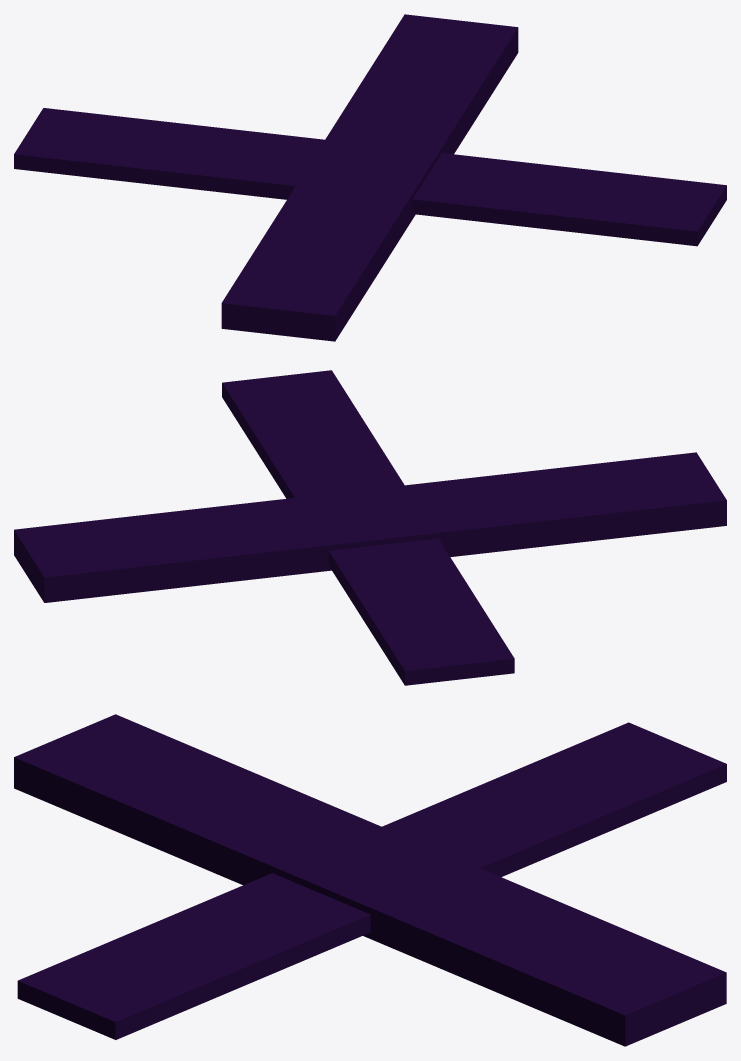
File: enemy_2.obj
The picture shows the model from 3 angles, top to bottom: view 1: azimuth 30°, elevation 25°; view 2: azimuth 150°, elevation 25°; view 3: azimuth 270°, elevation 25°; orthographic projection. The views are drawn at different scales.
Parts seen in each view (by area): view 1: 立方体.002; view 2: 立方体.002; view 3: 立方体.002.
Boxes of the visible parts, x1,y1,x2,y2 form: 立方体.002: [14, 14, 726, 341]; 立方体.002: [14, 370, 726, 685]; 立方体.002: [14, 714, 726, 1046].
Bounding box in the file's own units: 0.6512 × 0.0315 × 0.6512.
1 material, 1 textured.
